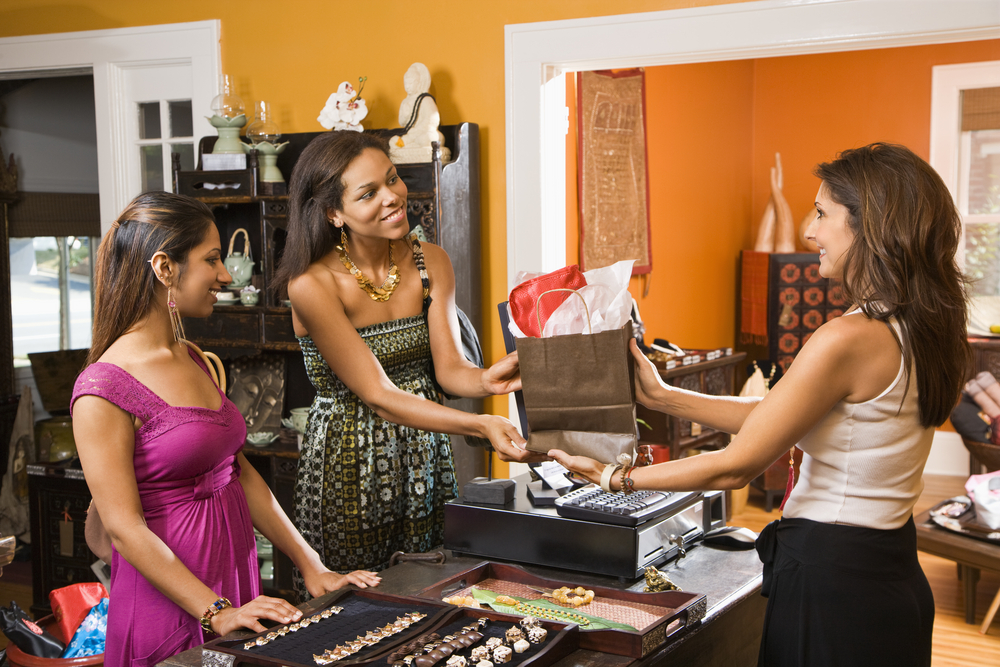Age_20_30: (800, 146, 930, 278), (119, 202, 238, 322), (306, 149, 422, 244)
E_Black: (306, 149, 422, 244)
E_Hispanic: (119, 202, 238, 322)
E_White: (800, 146, 930, 278)
Emotion_Happy: (800, 146, 930, 278), (119, 202, 238, 322), (306, 149, 422, 244)
G_ Female: (800, 146, 930, 278), (119, 202, 238, 322), (306, 149, 422, 244)
